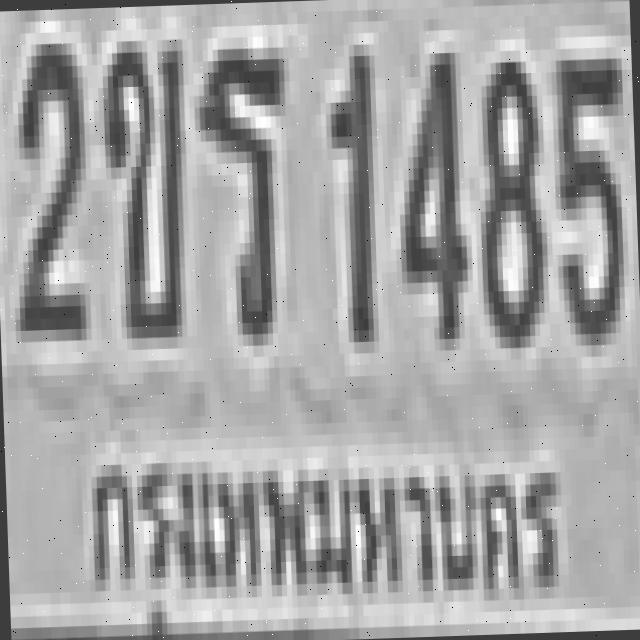1: (323, 38, 374, 336)
11KhorKhai: (96, 28, 186, 328)
2: (5, 32, 86, 330)
4: (388, 41, 464, 340)
44RorRuea: (192, 36, 288, 336)
5: (550, 46, 625, 334)
8: (470, 50, 540, 337)
Bangkok: (73, 409, 575, 640)
